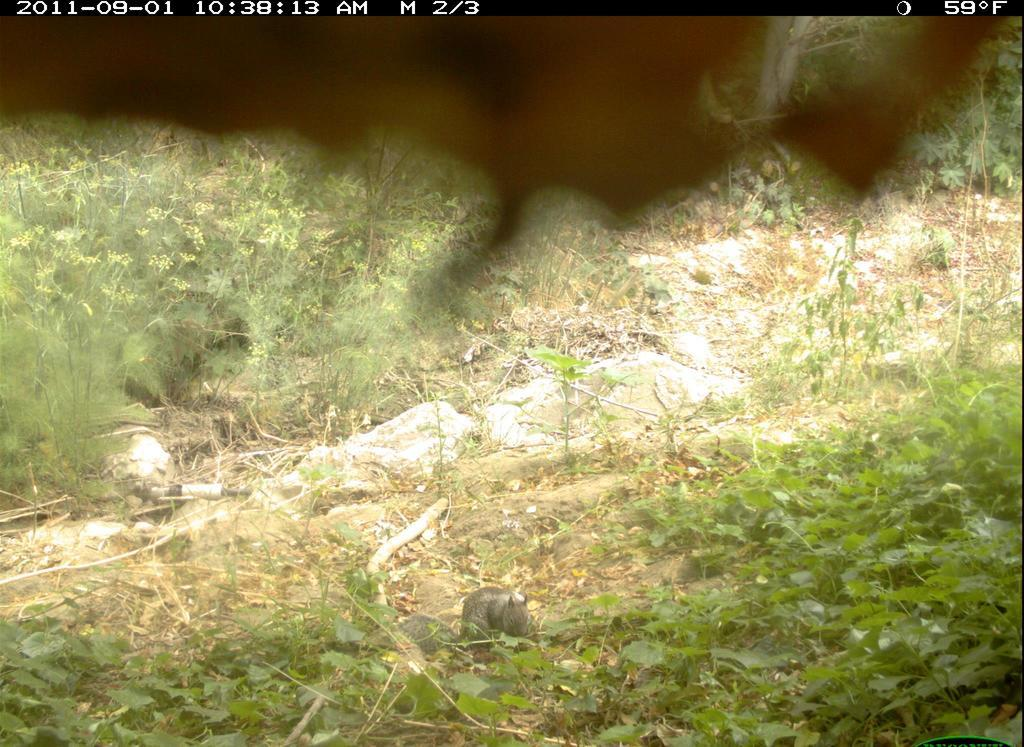squirrel: (396, 578, 557, 658)
